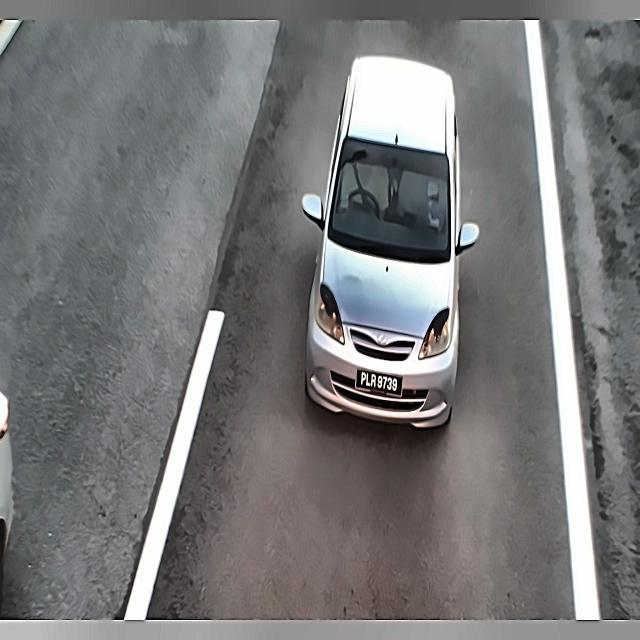car: (353, 368, 405, 398)
